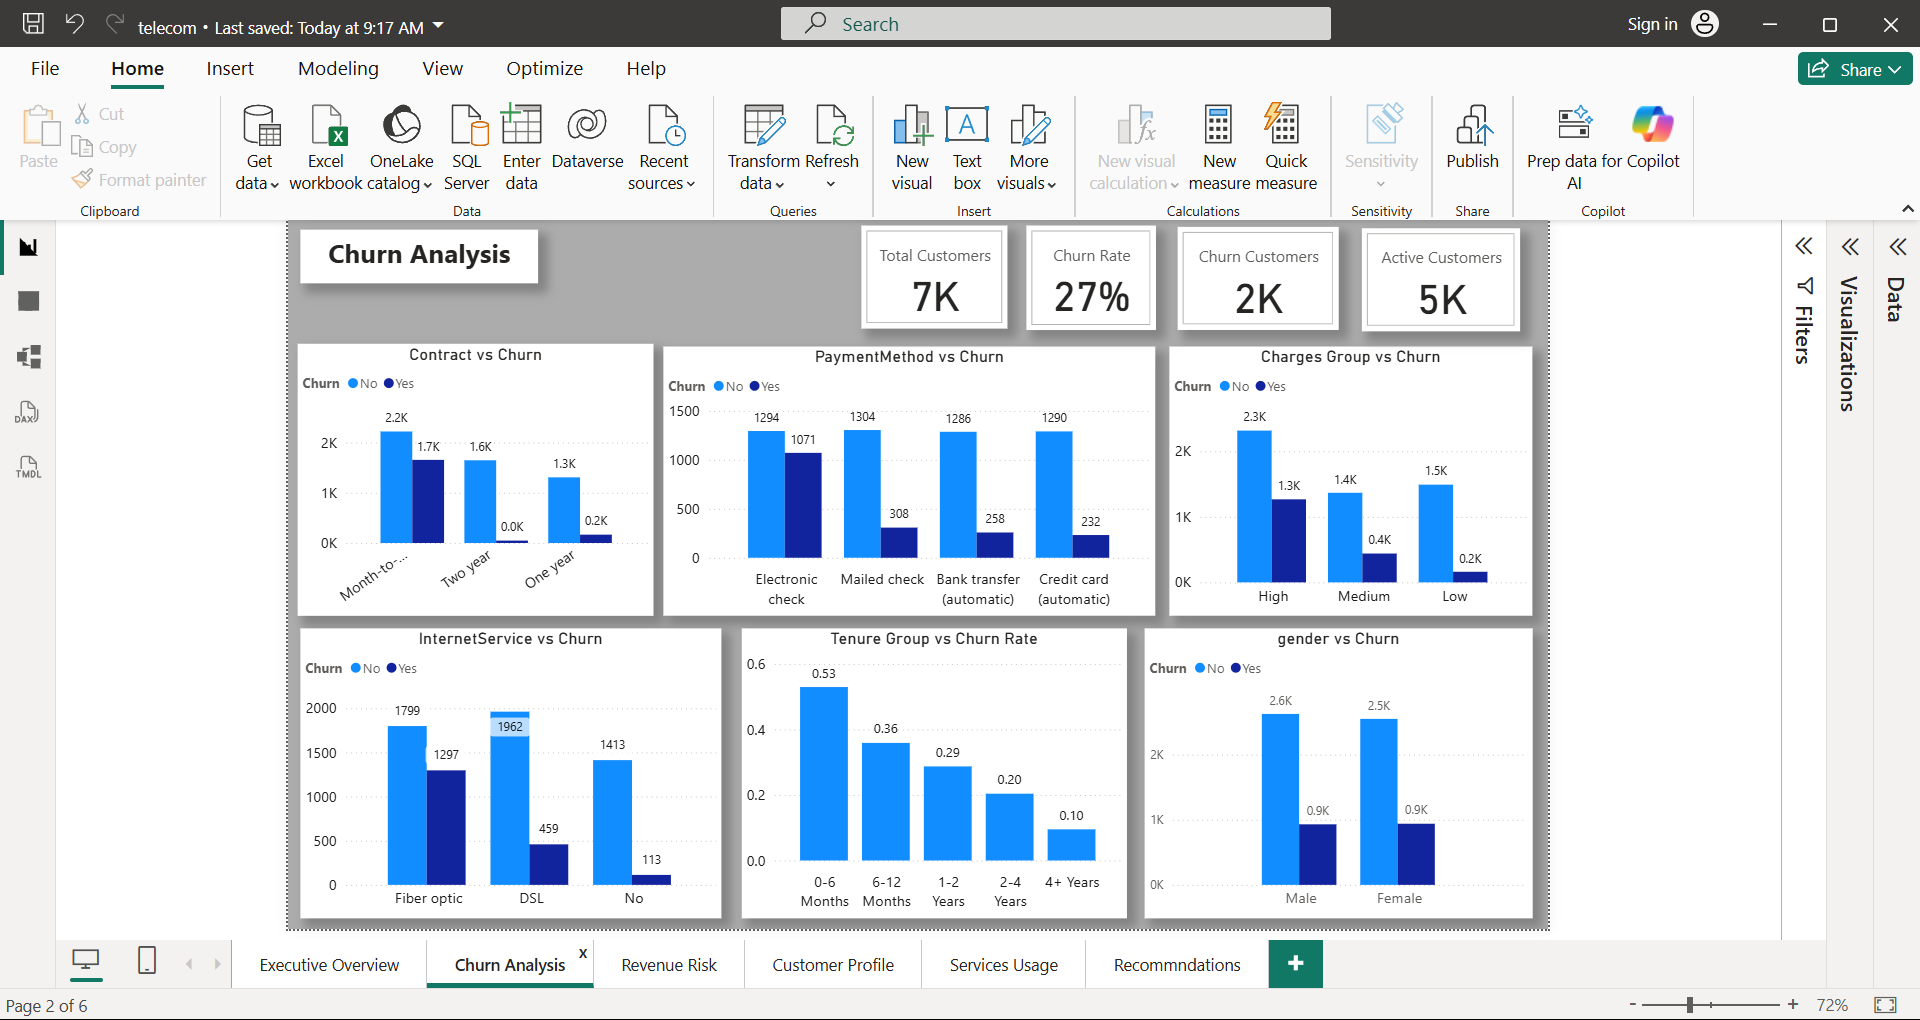

Layout of this report page (visuals, bound fields, positions):
{"tool":"powerbi","page":{"name":"Churn Analysis","canvas":[1280,720],"ordinal":1},"visuals":[{"type":"clusteredColumnChart","title":" Contract vs Churn","fields":{"Category":["Telco-Customer-Churn.Contract"],"Series":["Telco-Customer-Churn.Churn"],"Y":["Measure_table.Total Customers"]},"box":[9.8,125.7,361.7,276.5],"z":0},{"type":"clusteredColumnChart","title":" PaymentMethod vs Churn","fields":{"Category":["Telco-Customer-Churn.PaymentMethod"],"Series":["Telco-Customer-Churn.Churn"],"Y":["Measure_table.Total Customers"]},"box":[381.3,128.5,500,273.7],"z":1000},{"type":"lineClusteredColumnComboChart","title":" InternetService vs Churn","fields":{"Category":["Telco-Customer-Churn.InternetService"],"Series":["Telco-Customer-Churn.Churn"],"Y":["Measure_table.Total Customers"]},"box":[12.6,414.8,427.4,294.7],"z":2000},{"type":"clusteredColumnChart","title":" Tenure Group vs Churn Rate","fields":{"Category":["Telco-Customer-Churn.Tenure Group"],"Y":["Measure_table.Churn Rate Contract"]},"box":[460.9,414.8,391.1,294.7],"z":3000},{"type":"cardVisual","fields":{"Data":["Measure_table.Total Customers"]},"box":[582.4,5.6,148,104.7],"z":4000},{"type":"cardVisual","fields":{"Data":["Measure_table.Churn Customers"]},"box":[903.6,7,163.4,104.7],"z":5000},{"type":"cardVisual","fields":{"Data":["Measure_table.Churn Rate"]},"box":[750,5.6,131.3,106.1],"z":6000},{"type":"textbox","box":[12.6,9.8,241.6,54.5],"z":7000},{"type":"clusteredColumnChart","title":" Charges Group vs Churn","fields":{"Category":["Telco-Customer-Churn.Charges Group"],"Series":["Telco-Customer-Churn.Churn"],"Y":["Measure_table.Total Customers"]},"box":[895.2,128.5,368.7,273.7],"z":8000},{"type":"cardVisual","fields":{"Data":["Measure_table.Active Customers"]},"box":[1090.8,8.4,160.6,104.7],"z":9000},{"type":"clusteredColumnChart","title":" gender vs Churn","fields":{"Category":["Telco-Customer-Churn.gender"],"Series":["Telco-Customer-Churn.Churn"],"Y":["Measure_table.Total Customers"]},"box":[870.1,414.8,393.8,294.7],"z":10000}]}

Visuals, with their boxes on the page's 1280x720 design canvas (x1, y1, x2, y2). These are canvas units, not pixel positions in the 1920x1020 screenshot, which may show the page scaled, cropped or inside an application window:
" Contract vs Churn" clusteredColumnChart: rect(10, 126, 372, 402)
" PaymentMethod vs Churn" clusteredColumnChart: rect(381, 128, 881, 402)
" InternetService vs Churn" lineClusteredColumnComboChart: rect(13, 415, 440, 710)
" Tenure Group vs Churn Rate" clusteredColumnChart: rect(461, 415, 852, 710)
cardVisual - Measure_table.Total Customers: rect(582, 6, 730, 110)
cardVisual - Measure_table.Churn Customers: rect(904, 7, 1067, 112)
cardVisual - Measure_table.Churn Rate: rect(750, 6, 881, 112)
textbox: rect(13, 10, 254, 64)
" Charges Group vs Churn" clusteredColumnChart: rect(895, 128, 1264, 402)
cardVisual - Measure_table.Active Customers: rect(1091, 8, 1251, 113)
" gender vs Churn" clusteredColumnChart: rect(870, 415, 1264, 710)
